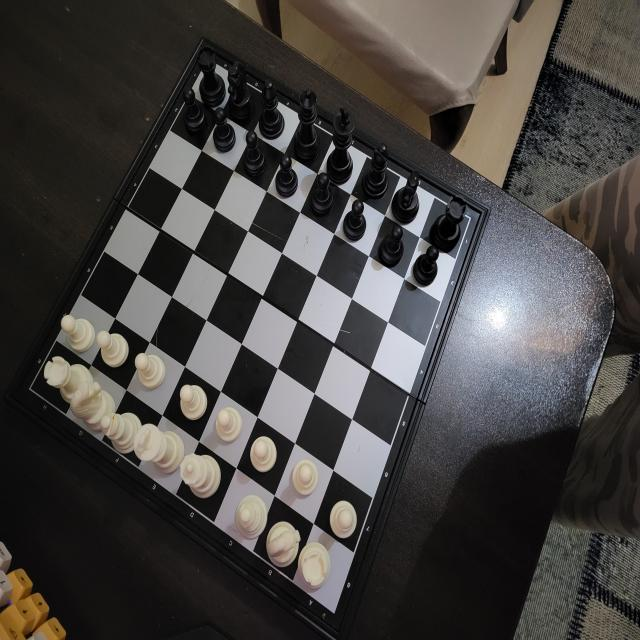black-bishop: (258, 77, 286, 141), (361, 141, 390, 201)
black-king: (326, 105, 354, 186)
black-knight: (228, 61, 256, 126), (391, 169, 421, 224)
black-pawn: (182, 86, 208, 139), (242, 128, 268, 180), (412, 244, 442, 289), (378, 222, 406, 267), (342, 196, 368, 243), (212, 106, 236, 154), (310, 171, 334, 217), (276, 152, 298, 198)
black-queen: (293, 86, 323, 162)
black-rook: (431, 192, 469, 249), (196, 44, 227, 107)
chess-board: (24, 40, 490, 626)
white-bishop: (101, 412, 142, 453), (235, 494, 268, 541)
white-king: (133, 423, 184, 476)
white-knight: (70, 381, 114, 428), (266, 520, 301, 570)
white-pawn: (60, 311, 96, 354), (327, 498, 359, 542), (97, 328, 129, 370), (178, 380, 208, 423), (290, 456, 320, 499), (214, 404, 244, 445), (136, 352, 167, 390), (249, 434, 277, 475)
white-queen: (180, 452, 222, 500)
white-rook: (41, 354, 94, 402), (299, 541, 331, 591)
